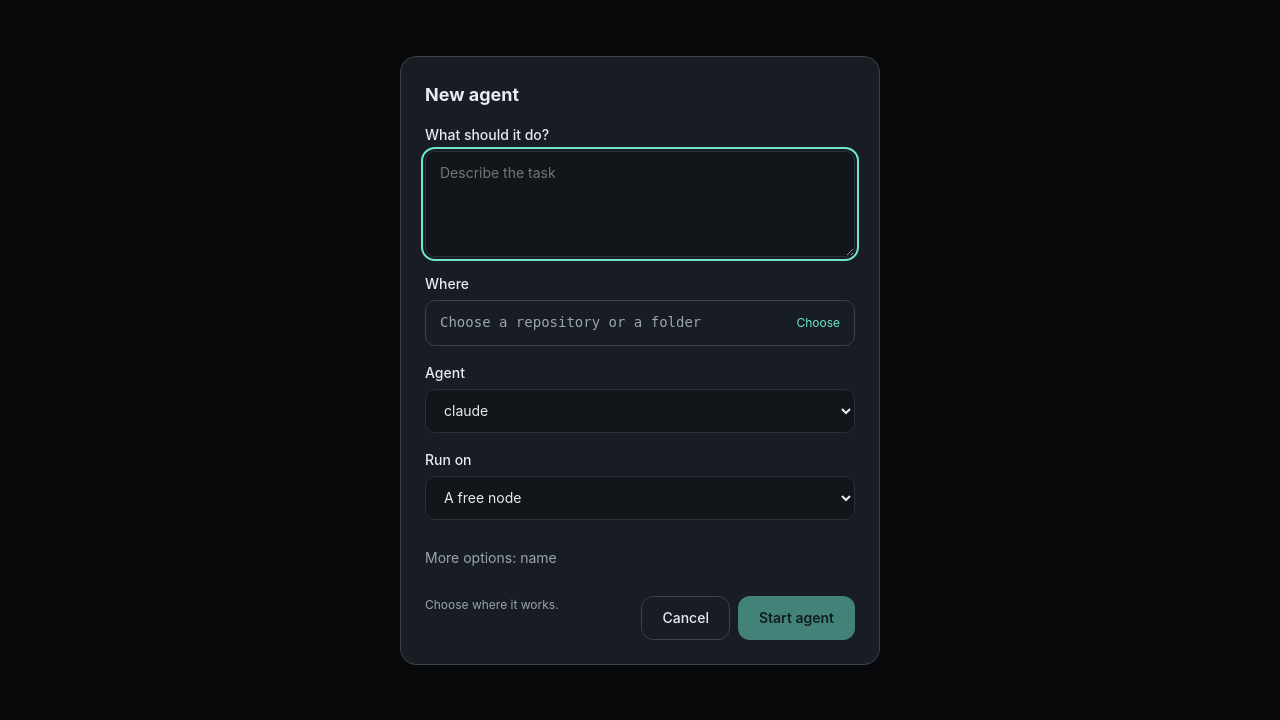
agent id from the prompt › follows the prompt until edited, never reuses a running id, opens More options for a bad one
Type "Update docs please" into the text box labelled "What should it do?" at [640, 204], box top-left (425, 150), bottom-right (855, 256)
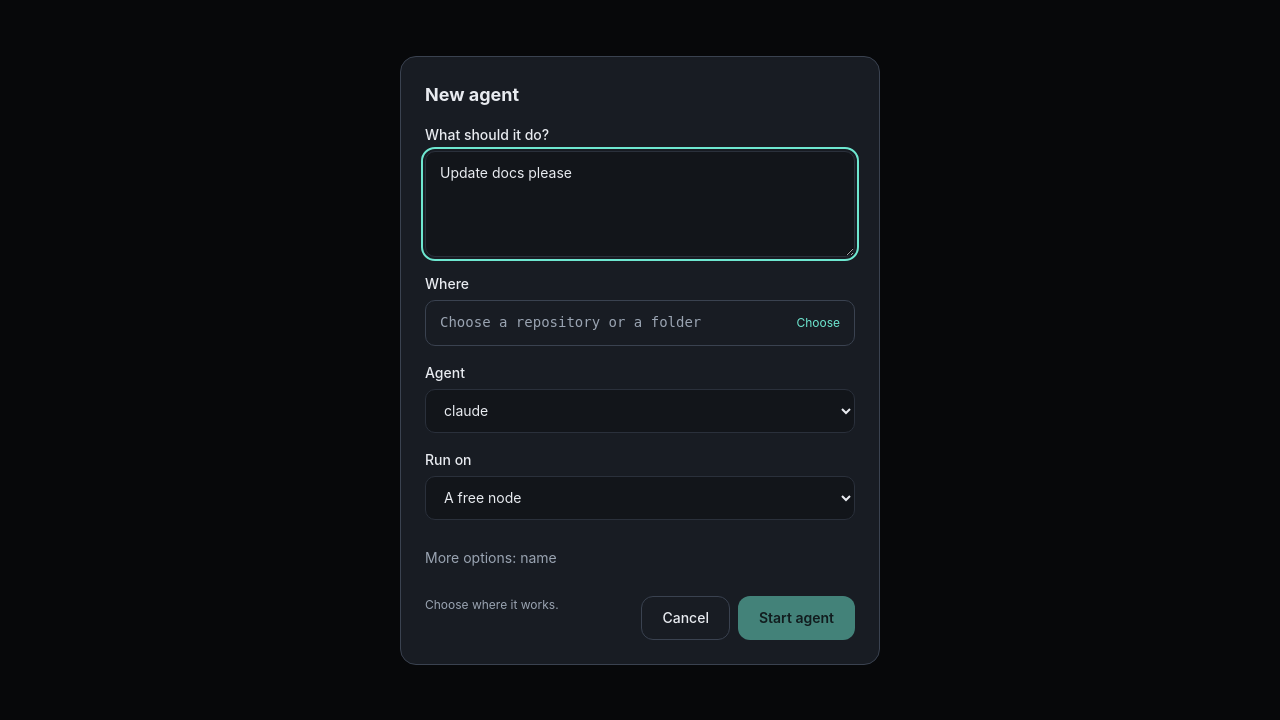
expect the element named "Agent id" holds "update-docs-please": met, box top-left (425, 549), bottom-right (557, 566)
Replace the text in the text box labelled "What should it do?" with "Update docs" at [640, 204], box top-left (425, 150), bottom-right (855, 256)
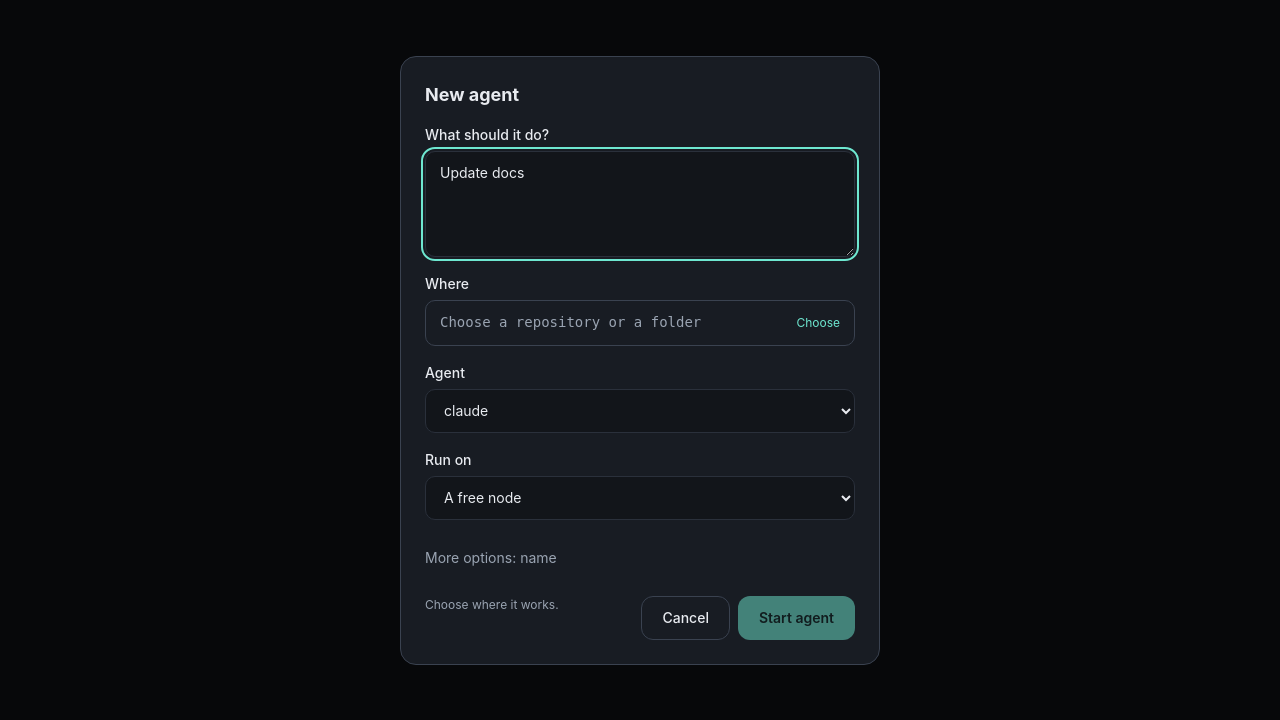
expect the text "Use 1-64 characters" is not shown: met
Replace the text in the field named "Agent id" with "Bad Name" at [491, 558], box top-left (425, 549), bottom-right (557, 566)
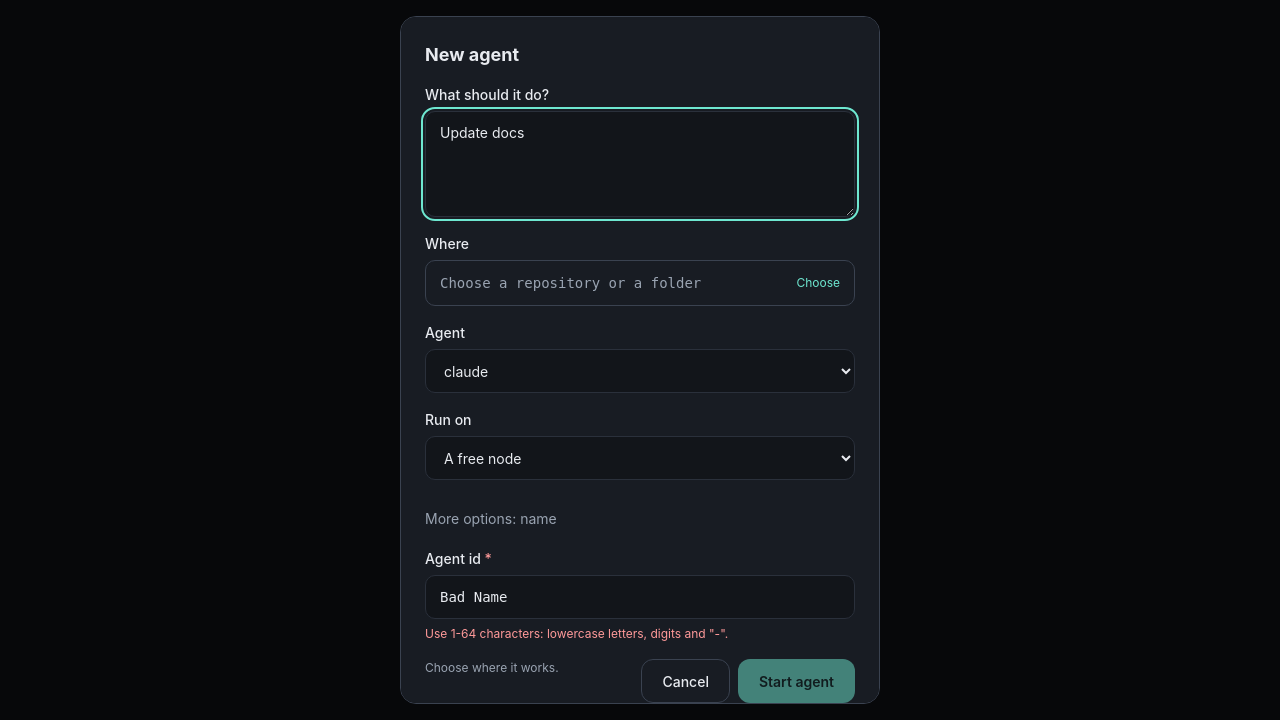
expect the text "Use 1-64 characters: lowercase letters, digits and \"-\"." is shown: met, box top-left (425, 626), bottom-right (728, 641)
Replace the text in the text box labelled "What should it do?" with "something else" at [640, 164], box top-left (425, 111), bottom-right (855, 217)
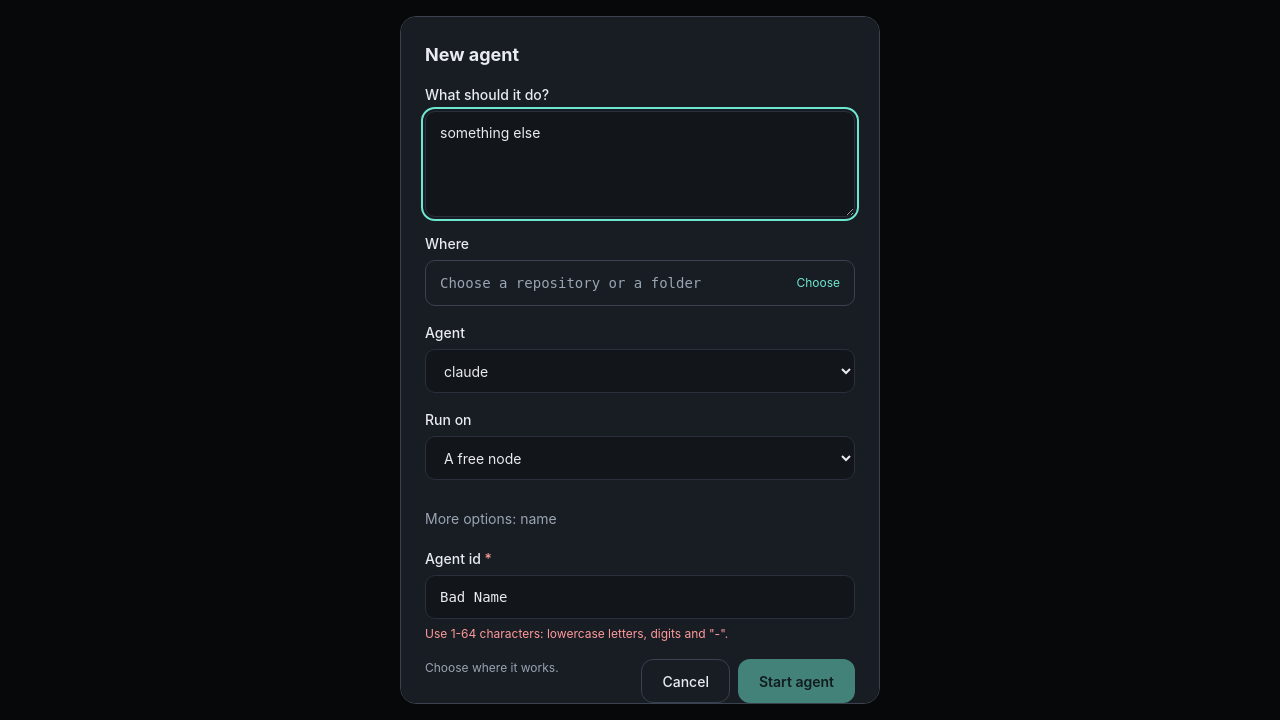
Replace the text in the field labelled "Agent id" with "ok-1" at [640, 597], box top-left (425, 575), bottom-right (855, 619)
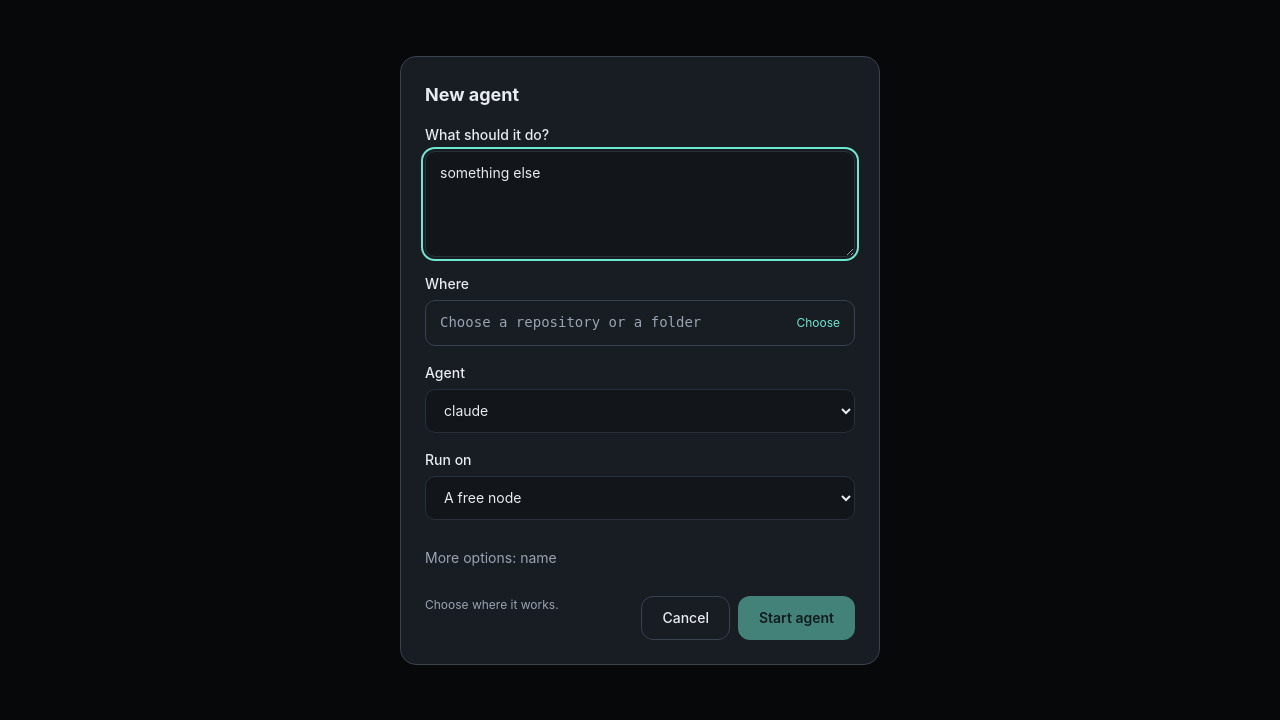
expect the text "Use 1-64 characters" is gone: met
